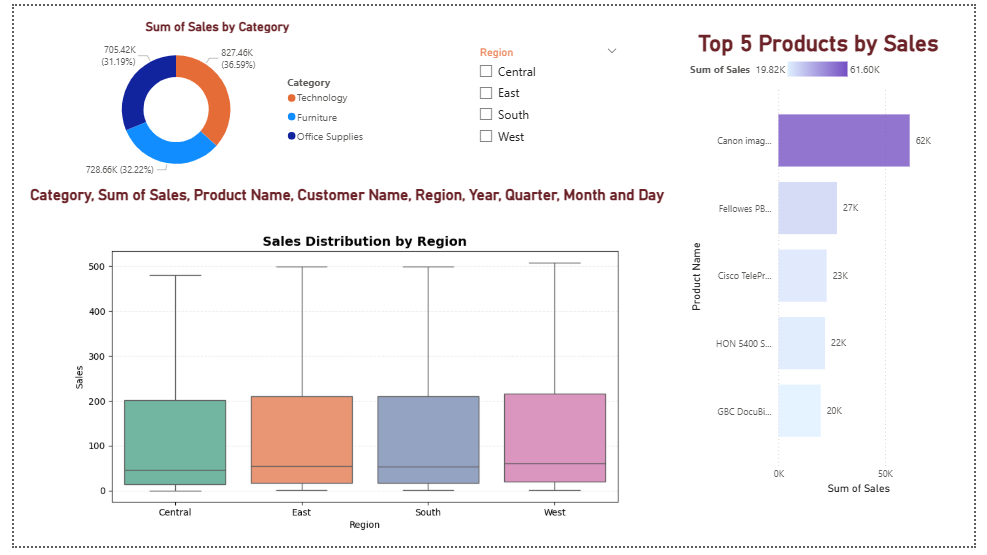

The dashboard page shown, as its layout file describes it:
{"tool":"powerbi","page":{"name":"Analysis","canvas":[1280,720],"ordinal":1},"visuals":[{"type":"donutChart","fields":{"Category":["cleaned_data.Category"],"Y":["Sum(cleaned_data.Sales)"]},"box":[64,16,416,224],"z":0},{"type":"slicer","title":"Sales by Region","fields":{"Values":["cleaned_data.Region"]},"box":[608,48,208,160],"z":1000},{"type":"barChart","title":"Top 5 Products by Sales","fields":{"Category":["cleaned_data.Product Name"],"Y":["Sum(cleaned_data.Sales)"]},"box":[896,32,352,624],"z":2000},{"type":"pythonVisual","fields":{"Values":["cleaned_data.Category","Sum(cleaned_data.Sales)","cleaned_data.Product Name","cleaned_data.Customer Name","cleaned_data.Region","cleaned_data.Order Date.Variation.Date Hierarchy.Year","cleaned_data.Order Date.Variation.Date Hierarchy.Quarter","cleaned_data.Order Date.Variation.Date Hierarchy.Month","cleaned_data.Order Date.Variation.Date Hierarchy.Day"]},"box":[16,240,880,480],"z":3000}]}

Visuals, with their boxes in screenshot pixels (x1, y1, x2, y2), scaled from the page's 1280x720 canvas onto the 987x555 screenshot:
donutChart - cleaned_data.Category x Sum(cleaned_data.Sales): 49, 12, 370, 185
"Sales by Region" slicer: 469, 37, 629, 160
"Top 5 Products by Sales" barChart: 691, 25, 962, 506
pythonVisual - cleaned_data.Category x Sum(cleaned_data.Sales): 12, 185, 691, 554
